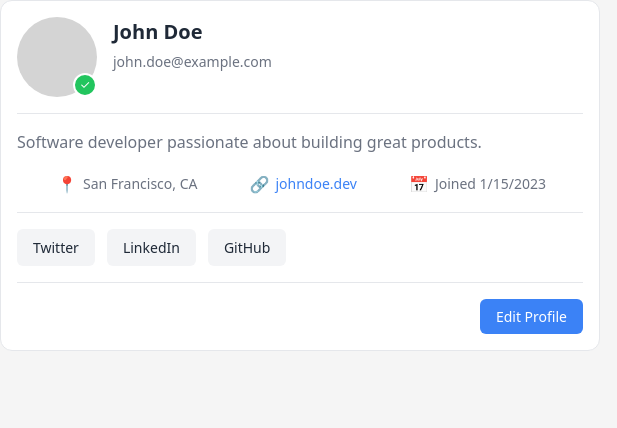
UserProfile › Editing › enables save button after making changes
This screenshot has width=617, height=428.
Click the button with test id "edit-button" at (531, 316), box left=480, top=299, right=583, bottom=334
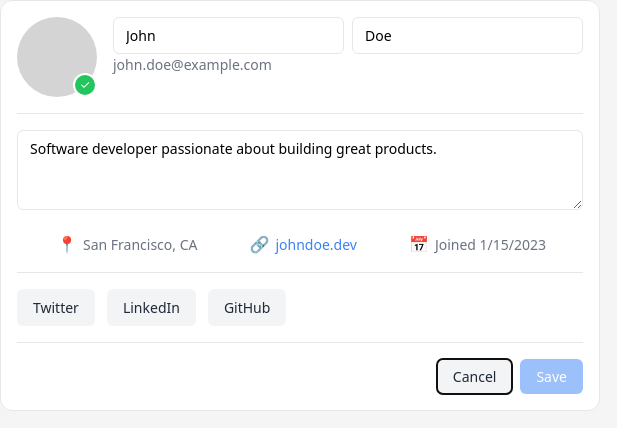
Expected: the field with test id "edit-first-name" is shown
Type "x" into the field with test id "edit-first-name" at (228, 36), box left=113, top=17, right=344, bottom=54
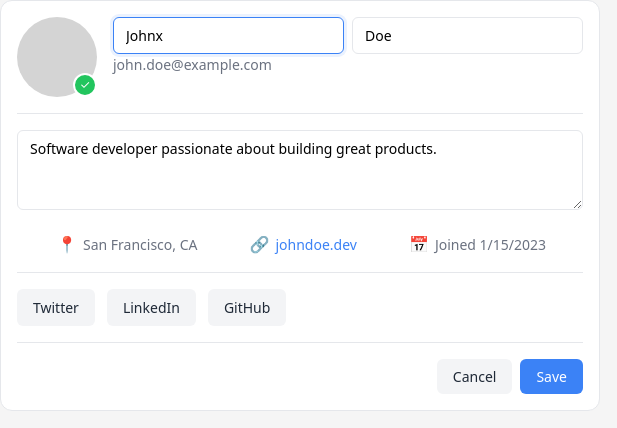
Expected: the button with test id "save-button" is enabled, left=520, top=359, right=583, bottom=394
